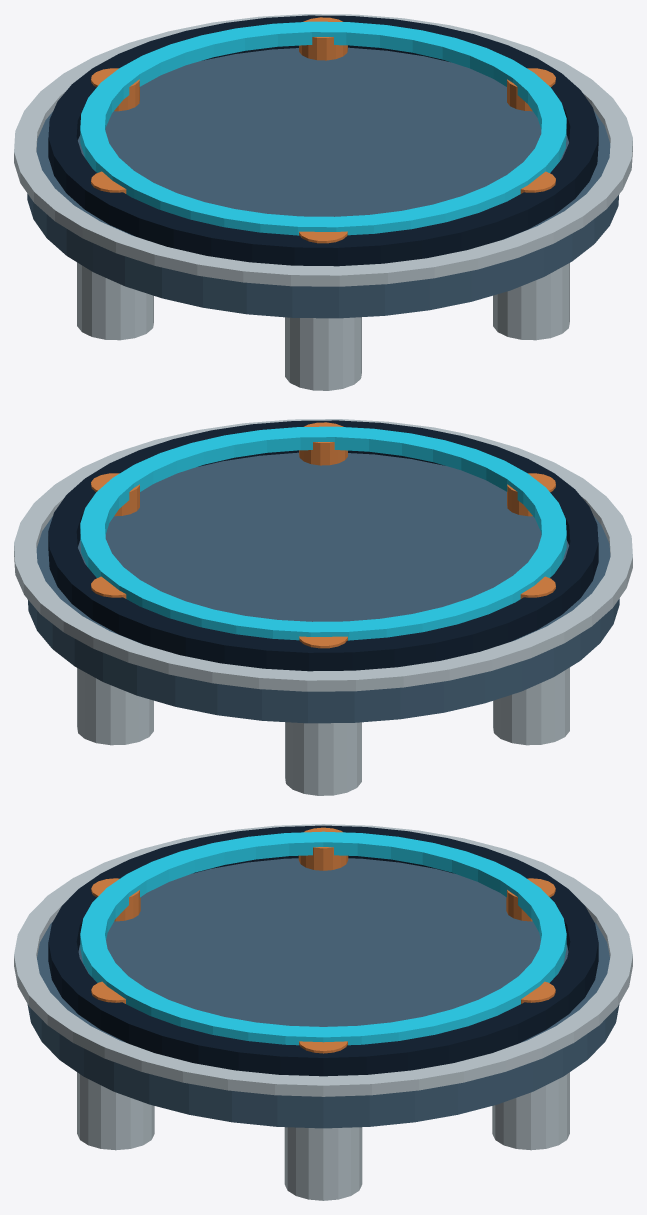
File: 27_L74_WaferZTiltFocusStage.fbx
3 renders of one model, top to bottom at view 1: azimuth 30°, elevation 25°; view 2: azimuth 150°, elevation 25°; view 3: azimuth 270°, elevation 25°, orthographic.
Visible parts, largest first — view 1: WaferZTiltFocusStage_Part_0000, WaferZTiltFocusStage_Part_0014, WaferZTiltFocusStage_Part_0015, WaferZTiltFocusStage_Part_0001, WaferZTiltFocusStage_Part_0006, WaferZTiltFocusStage_Part_0008, WaferZTiltFocusStage_Part_0004, WaferZTiltFocusStage_Part_0013, WaferZTiltFocusStage_Part_0003, WaferZTiltFocusStage_Part_0011; view 2: WaferZTiltFocusStage_Part_0000, WaferZTiltFocusStage_Part_0014, WaferZTiltFocusStage_Part_0015, WaferZTiltFocusStage_Part_0001, WaferZTiltFocusStage_Part_0010, WaferZTiltFocusStage_Part_0008, WaferZTiltFocusStage_Part_0012, WaferZTiltFocusStage_Part_0005, WaferZTiltFocusStage_Part_0003, WaferZTiltFocusStage_Part_0007; view 3: WaferZTiltFocusStage_Part_0000, WaferZTiltFocusStage_Part_0014, WaferZTiltFocusStage_Part_0015, WaferZTiltFocusStage_Part_0001, WaferZTiltFocusStage_Part_0002, WaferZTiltFocusStage_Part_0004, WaferZTiltFocusStage_Part_0012, WaferZTiltFocusStage_Part_0009, WaferZTiltFocusStage_Part_0007, WaferZTiltFocusStage_Part_0011.
Part boxes in pixels (left/top/right/bottom): WaferZTiltFocusStage_Part_0000: left=27, top=47, right=619, bottom=318; WaferZTiltFocusStage_Part_0014: left=48, top=15, right=598, bottom=266; WaferZTiltFocusStage_Part_0015: left=80, top=21, right=566, bottom=235; WaferZTiltFocusStage_Part_0001: left=14, top=14, right=632, bottom=286; WaferZTiltFocusStage_Part_0006: left=285, top=317, right=361, bottom=390; WaferZTiltFocusStage_Part_0008: left=77, top=262, right=153, bottom=340; WaferZTiltFocusStage_Part_0004: left=493, top=263, right=569, bottom=340; WaferZTiltFocusStage_Part_0013: left=299, top=17, right=347, bottom=60; WaferZTiltFocusStage_Part_0003: left=507, top=68, right=555, bottom=111; WaferZTiltFocusStage_Part_0011: left=91, top=68, right=139, bottom=111; WaferZTiltFocusStage_Part_0000: left=27, top=452, right=619, bottom=723; WaferZTiltFocusStage_Part_0014: left=48, top=420, right=598, bottom=671; WaferZTiltFocusStage_Part_0015: left=80, top=426, right=566, bottom=640; WaferZTiltFocusStage_Part_0001: left=14, top=419, right=632, bottom=691; WaferZTiltFocusStage_Part_0010: left=285, top=722, right=361, bottom=795; WaferZTiltFocusStage_Part_0008: left=493, top=667, right=569, bottom=745; WaferZTiltFocusStage_Part_0012: left=77, top=668, right=153, bottom=745; WaferZTiltFocusStage_Part_0005: left=299, top=422, right=347, bottom=465; WaferZTiltFocusStage_Part_0003: left=91, top=473, right=139, bottom=516; WaferZTiltFocusStage_Part_0007: left=507, top=473, right=555, bottom=516; WaferZTiltFocusStage_Part_0000: left=27, top=858, right=619, bottom=1128; WaferZTiltFocusStage_Part_0014: left=48, top=825, right=598, bottom=1076; WaferZTiltFocusStage_Part_0015: left=80, top=831, right=566, bottom=1045; WaferZTiltFocusStage_Part_0001: left=14, top=824, right=632, bottom=1096; WaferZTiltFocusStage_Part_0002: left=284, top=1127, right=362, bottom=1200; WaferZTiltFocusStage_Part_0004: left=77, top=1072, right=154, bottom=1150; WaferZTiltFocusStage_Part_0012: left=492, top=1072, right=569, bottom=1150; WaferZTiltFocusStage_Part_0009: left=298, top=827, right=348, bottom=870; WaferZTiltFocusStage_Part_0007: left=91, top=878, right=140, bottom=921; WaferZTiltFocusStage_Part_0011: left=506, top=878, right=555, bottom=921.
Bounding box in the file's own units: 176 × 46.5 × 176.
